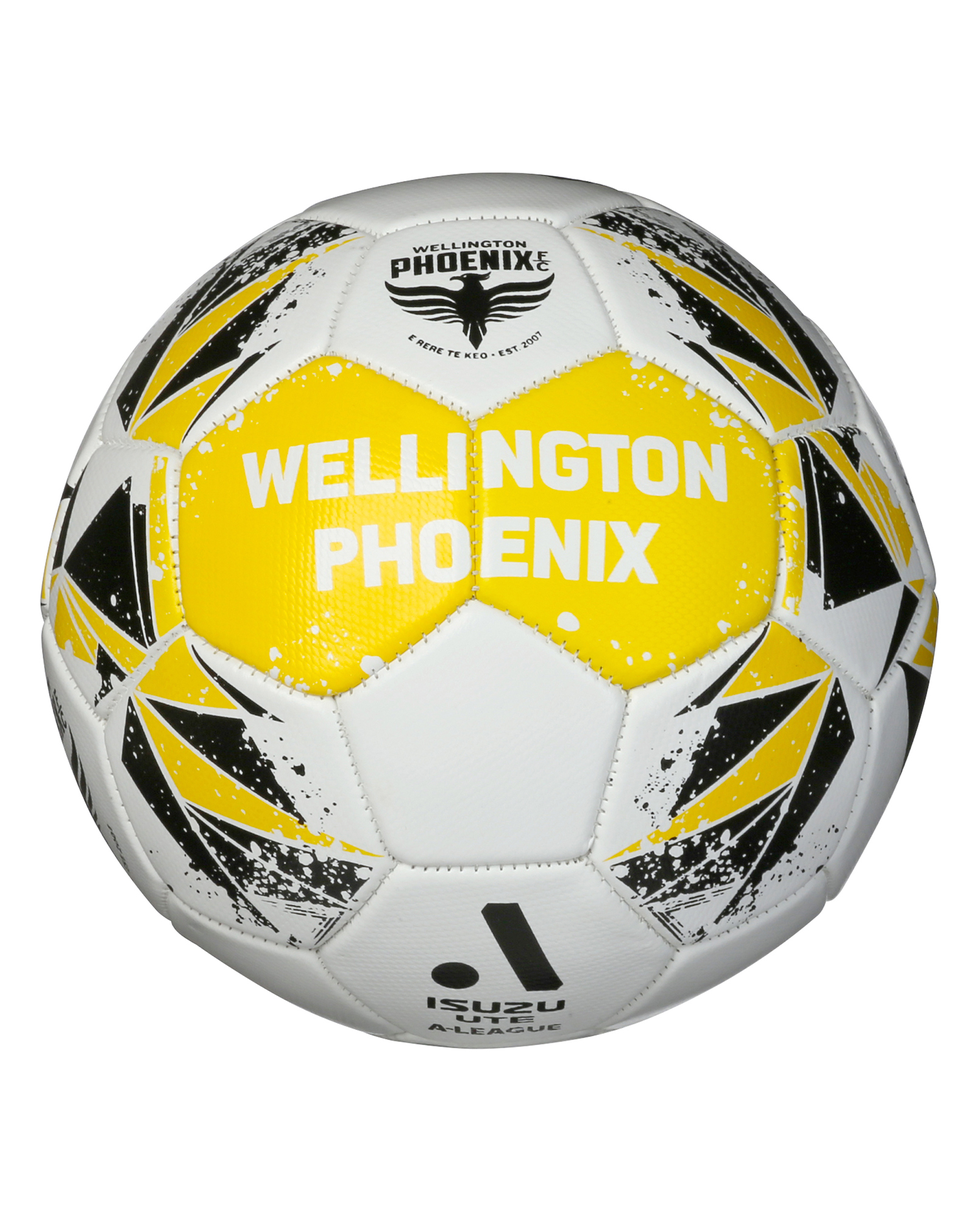sphere: (42, 172, 940, 1050)
